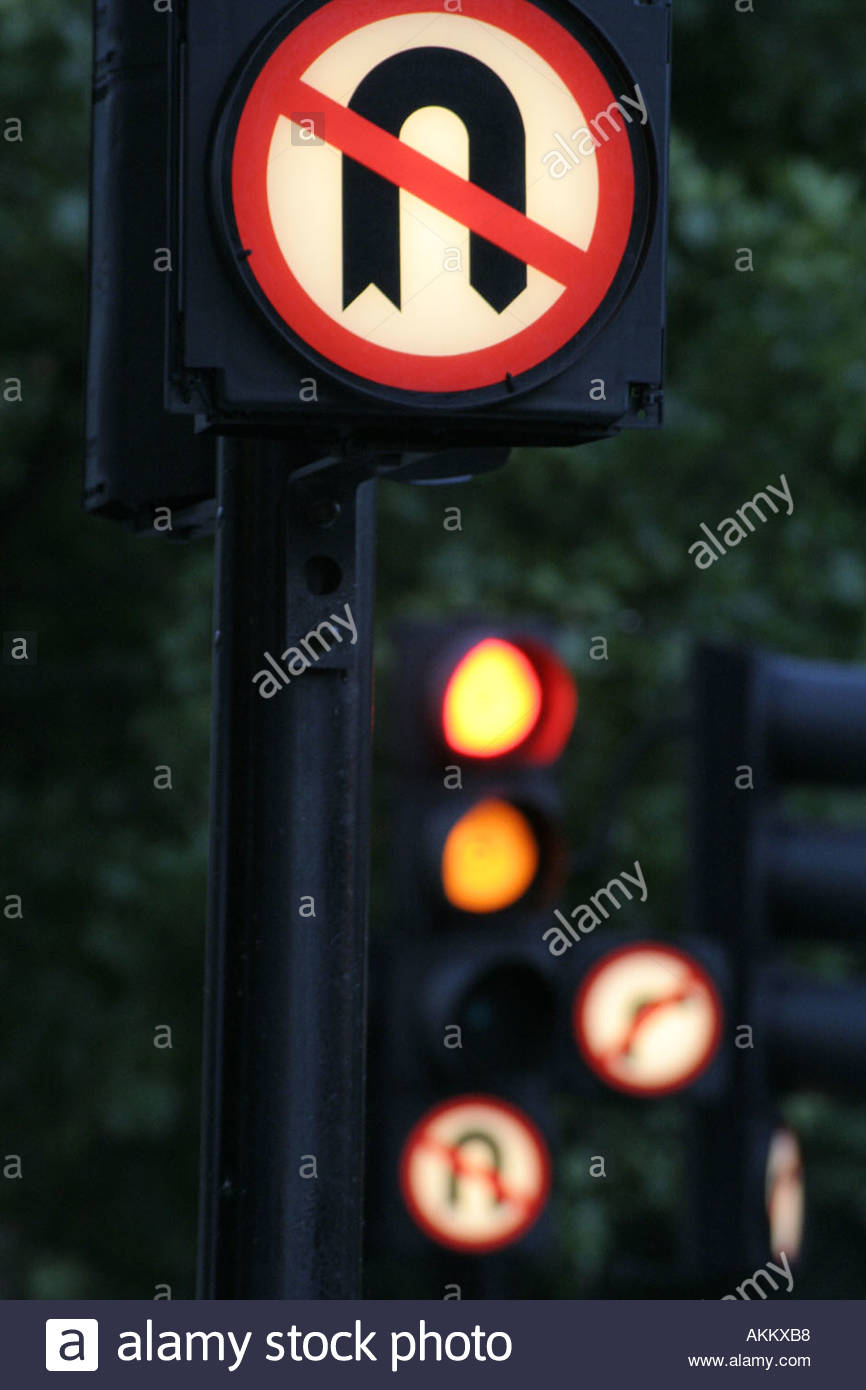No_u_turn: (232, 1, 634, 390)
